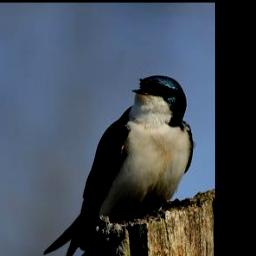Swallow: (42, 74, 193, 256)
